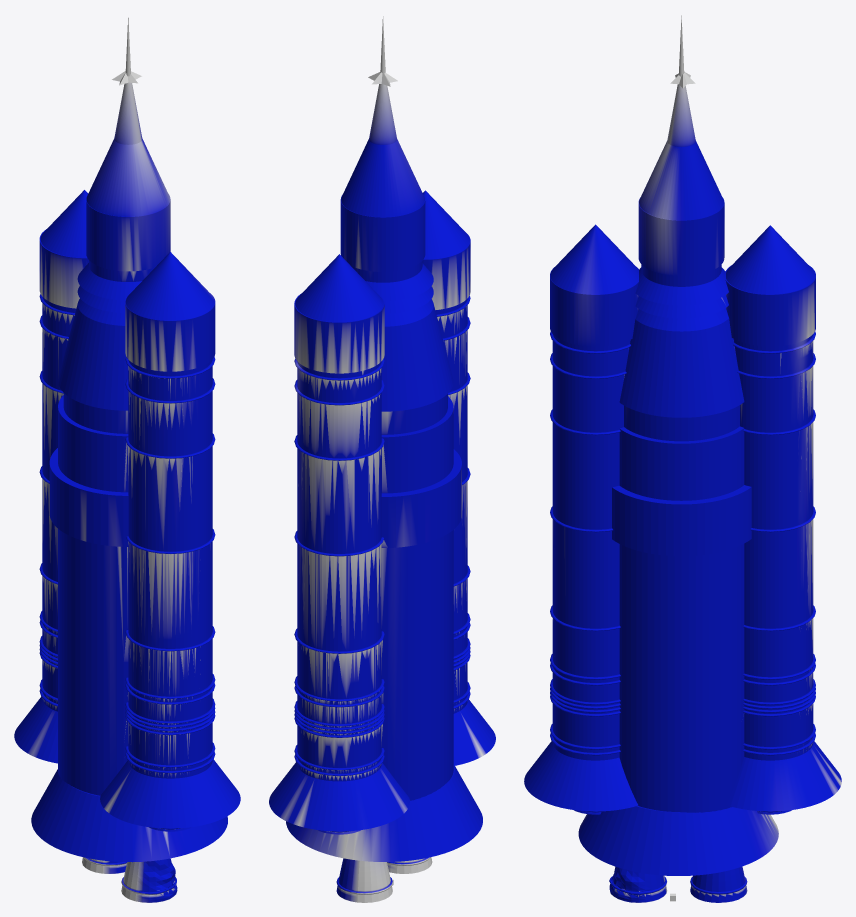
3 renders of one model, left to right at view 1: azimuth 30°, elevation 25°; view 2: azimuth 150°, elevation 25°; view 3: azimuth 270°, elevation 25°, orthographic.
Visible parts, largest first — view 1: Dazzling Bombul-Hango_1; view 2: Dazzling Bombul-Hango_1; view 3: Dazzling Bombul-Hango_1.
Part boxes in pixels (x1,y1,x2,y2): Dazzling Bombul-Hango_1: (14, 17, 240, 902); Dazzling Bombul-Hango_1: (269, 16, 495, 902); Dazzling Bombul-Hango_1: (524, 15, 841, 902).
Size of the model in its own units: 69.99 by 342 by 111.
